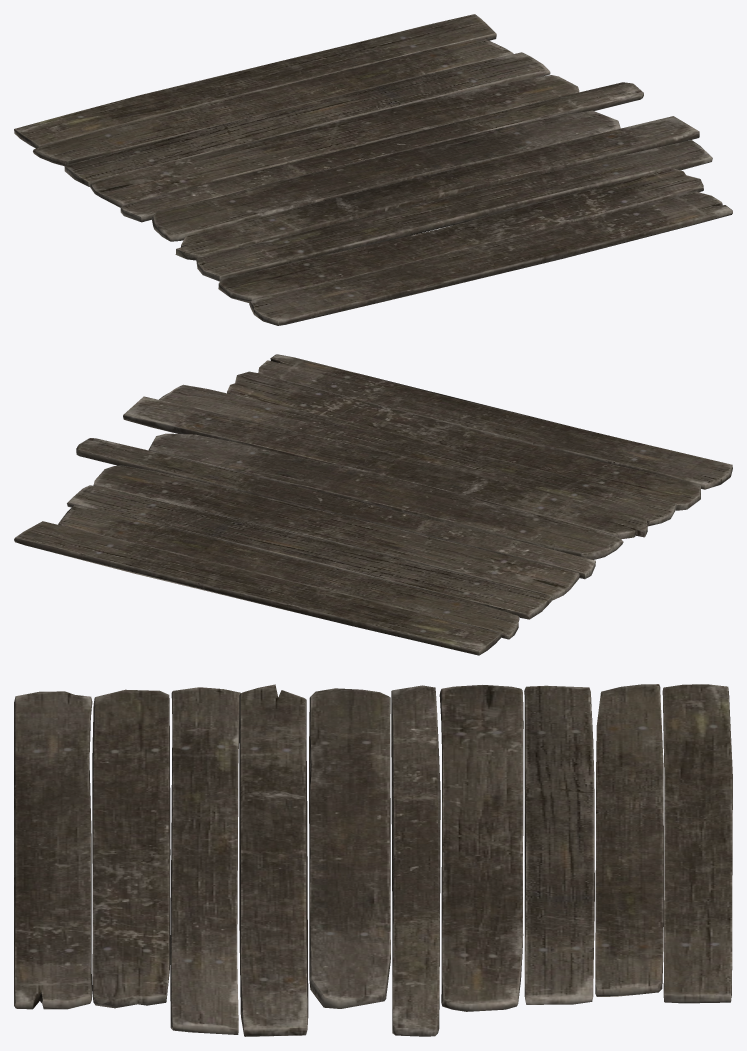
Rendered from bridge-planks.glb.
The picture shows the model from 3 angles, top to bottom: view 1: azimuth 30°, elevation 25°; view 2: azimuth 150°, elevation 25°; view 3: azimuth 270°, elevation 25°; orthographic projection. The views are drawn at different scales.
Parts seen in each view (by area): view 1: modular_wooden_pier_planks; view 2: modular_wooden_pier_planks; view 3: modular_wooden_pier_planks.
Boxes of the visible parts, <box> form: modular_wooden_pier_planks: <box>14,14,732,325</box>; modular_wooden_pier_planks: <box>14,354,732,655</box>; modular_wooden_pier_planks: <box>14,684,732,1036</box>.
Bounding box in the file's own units: 2.52 × 0.0793 × 2.2.
1 material, 1 textured.
